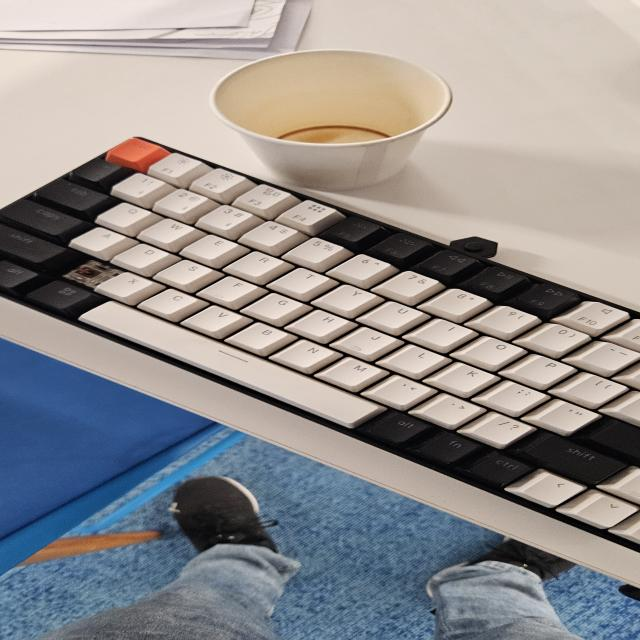C: (63, 260, 112, 279)
